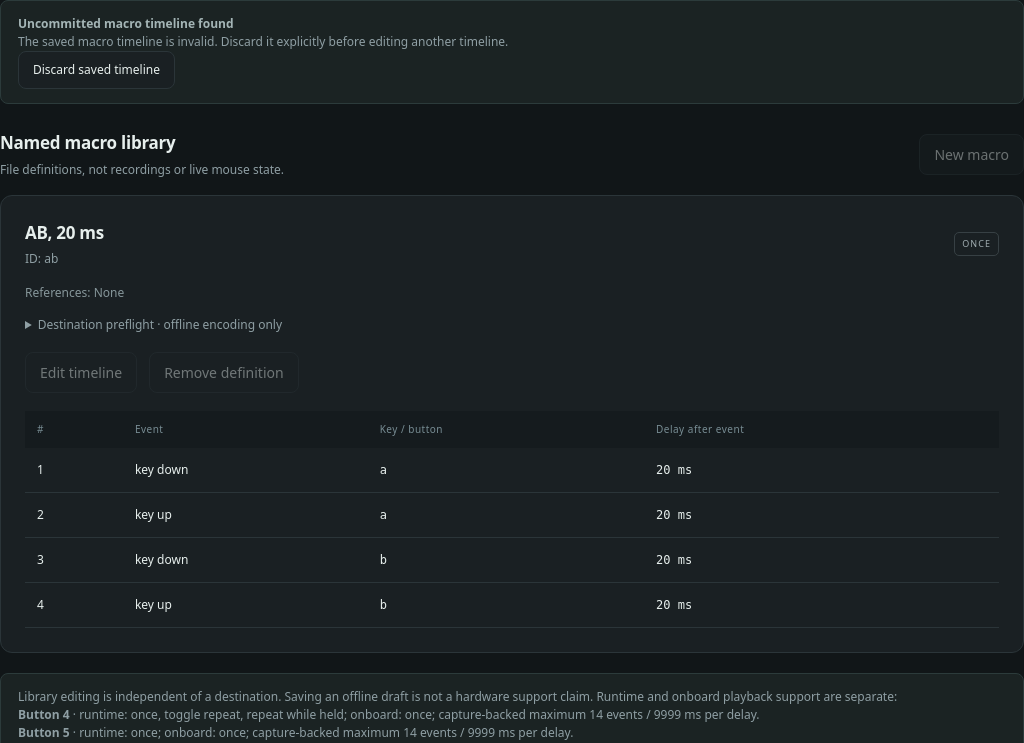
it: offline named macro timeline editor › does not silently overwrite an invalid recovery snapshot
This screenshot has width=1024, height=743.
Check: the message shows "invalid", box [18,33,508,50]
Check: the button "New macro" is disabled, box [920,134,1023,175]
Step 1. Click the button "Discard saved timeline" → (96, 70), box [18,51,175,89]
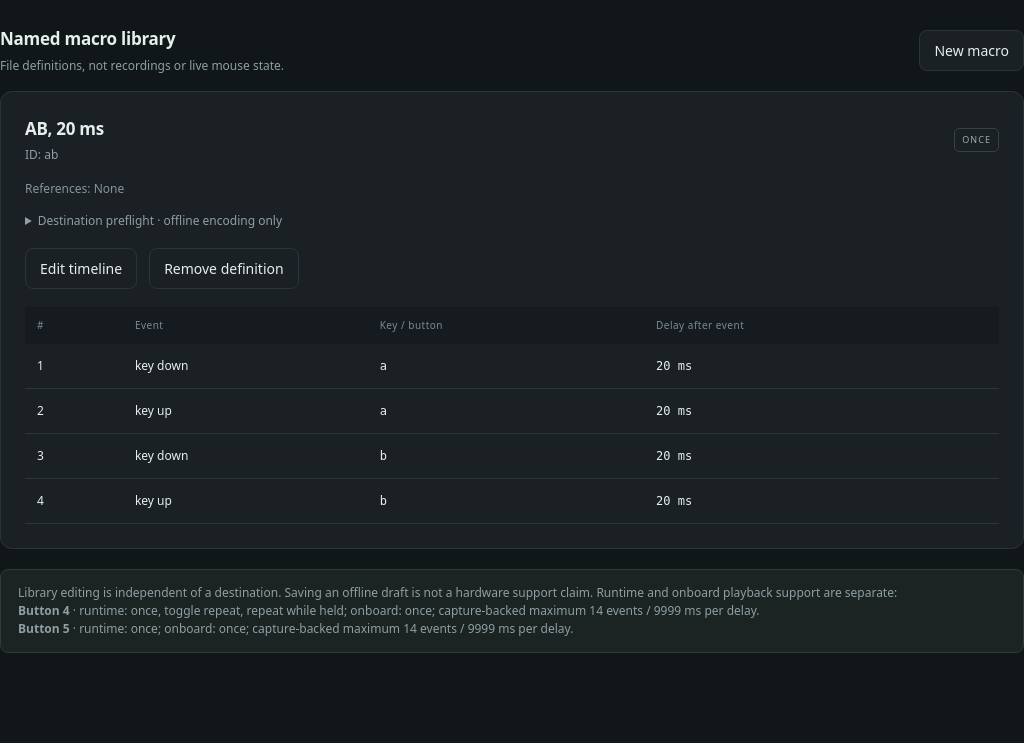
Step 2. Click the button "New macro" → (972, 50), box [920,30,1023,71]
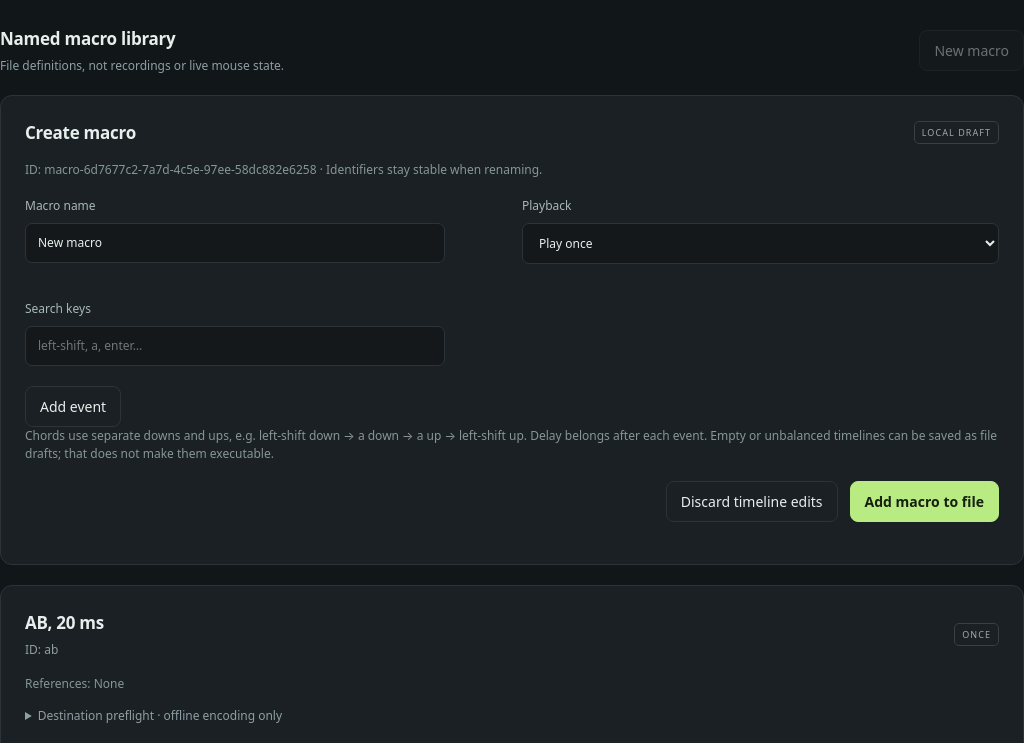
Check: the field labelled "Macro name" is shown, box [25,223,445,263]
